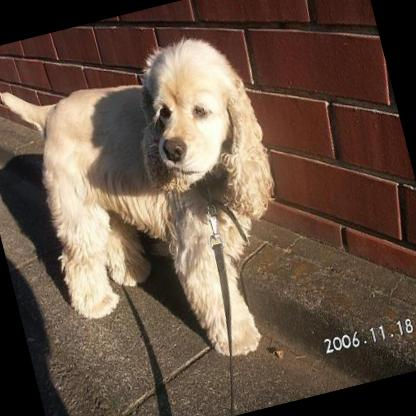cocker_spaniel: (0, 22, 312, 400)
